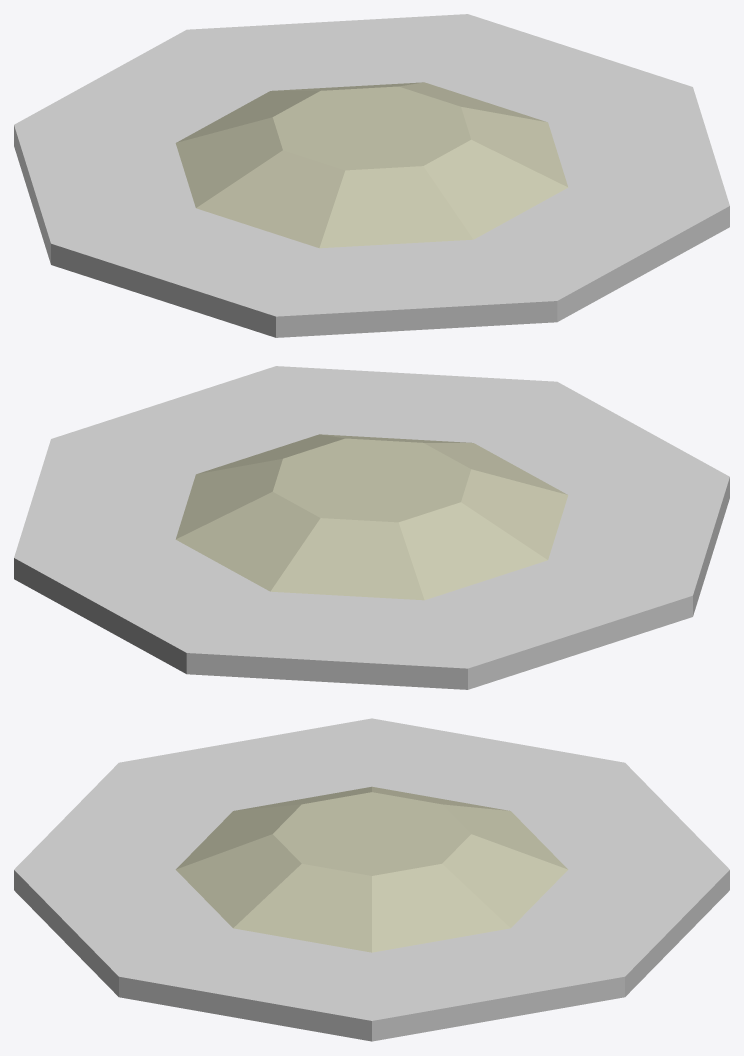
File: Egg.fbx
3 renders of one model, top to bottom at view 1: azimuth 30°, elevation 25°; view 2: azimuth 150°, elevation 25°; view 3: azimuth 270°, elevation 25°, orthographic. The views are drawn at different scales.
Visible parts, largest first — view 1: Egg; view 2: Egg; view 3: Egg.
Part boxes in pixels (<box>): Egg: <box>14,14,729,337</box>; Egg: <box>14,366,729,689</box>; Egg: <box>14,718,729,1041</box>.
Size of the model in its own units: 16.78 by 1.45 by 16.78.
